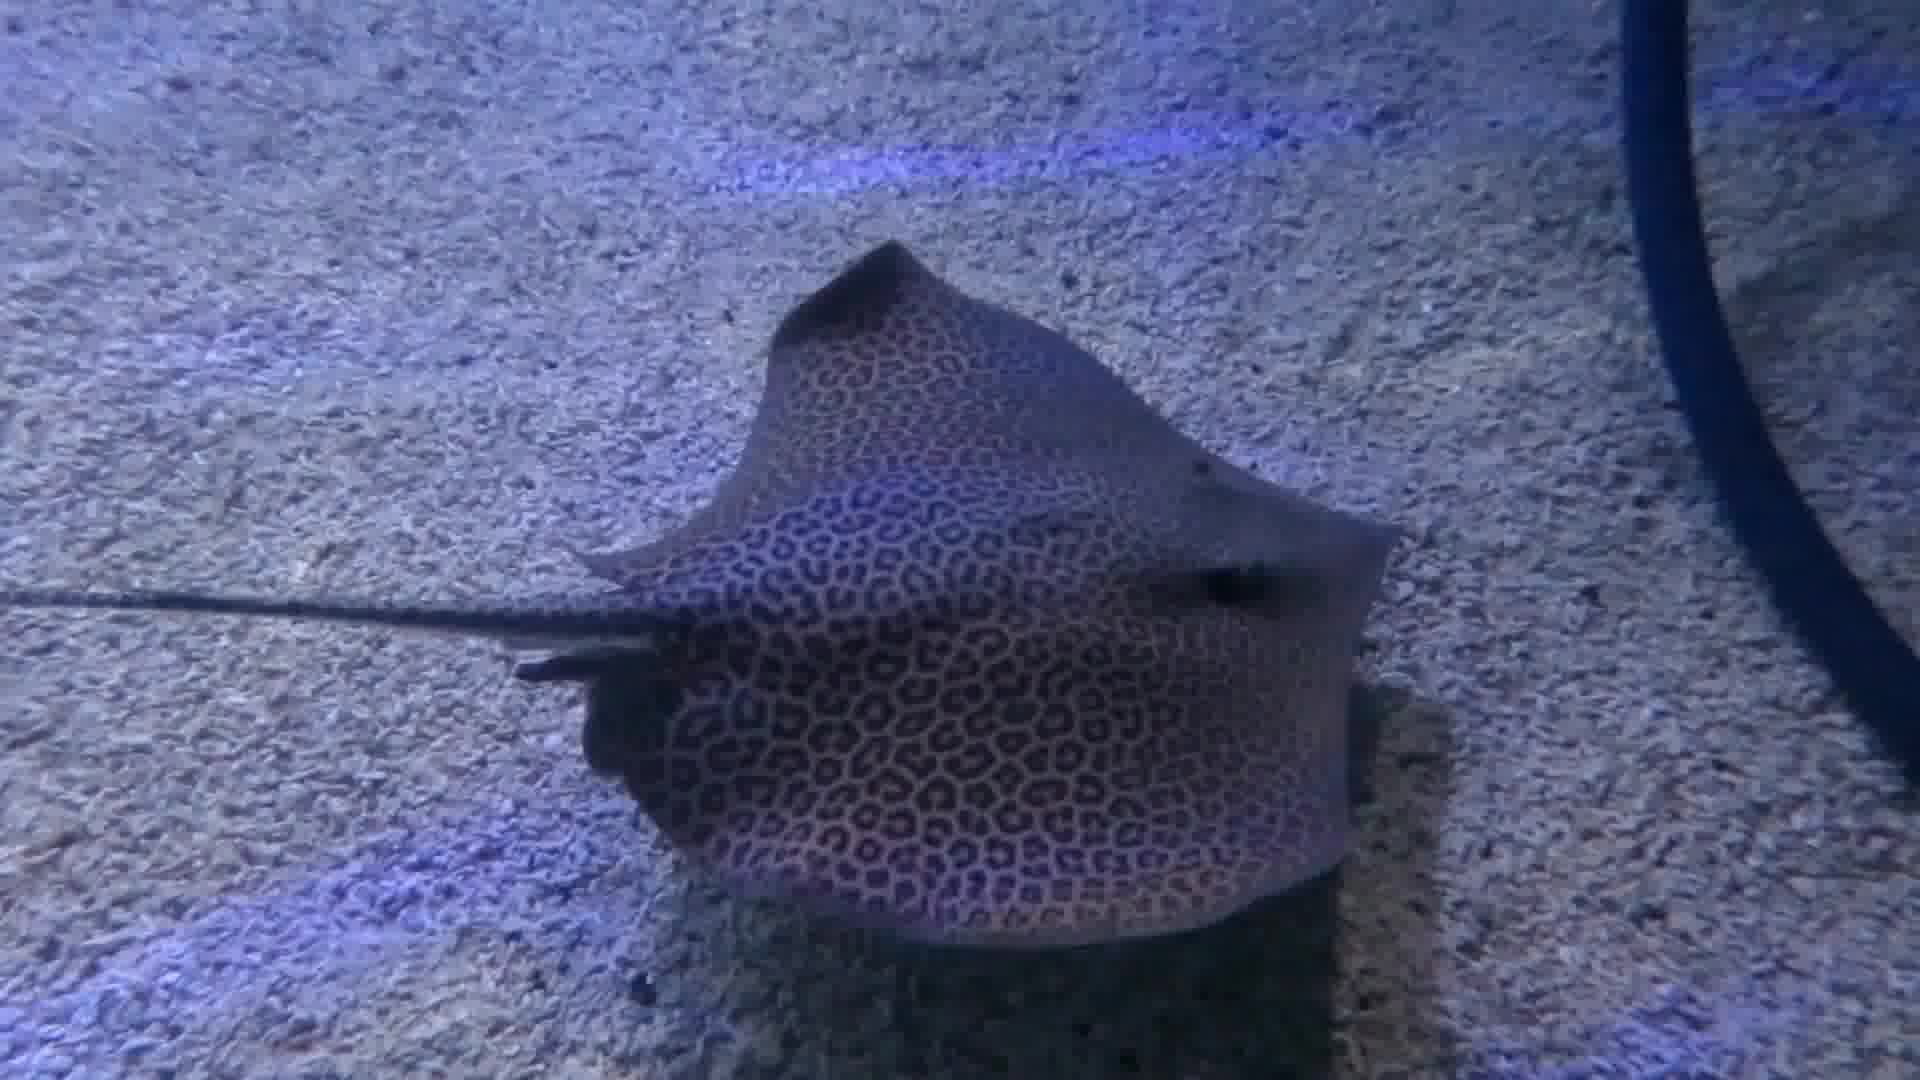Himantura uarnak: (434, 185, 1466, 1011)
